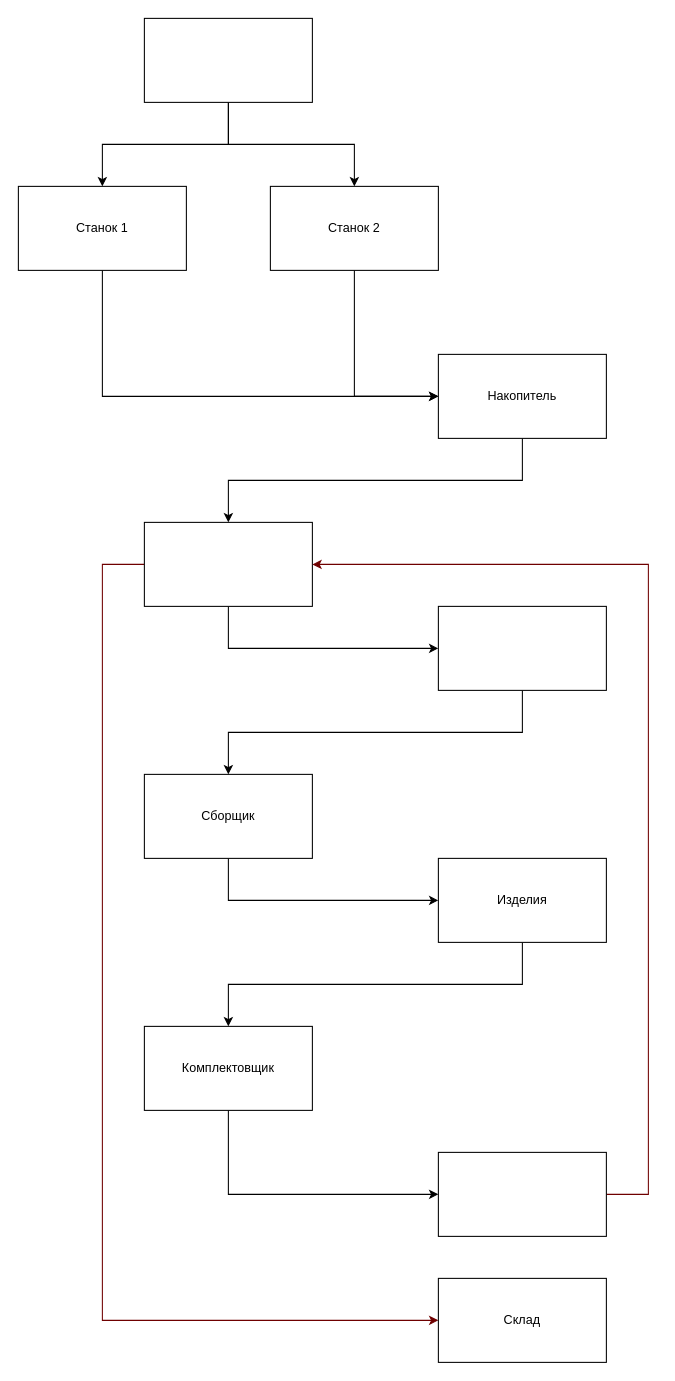
Image size: 675x1381. Some labels were removed from this diagram. The shapes that lost their labels are listed below. From the top down, each one's box as (x1, y1, x2, y2) in pixels, then its label:
(143, 17, 312, 102): Источник деталей
(143, 521, 312, 606): Транспортировщик
(437, 605, 606, 690): Технологический модуль
(437, 1151, 606, 1236): Партии изделий
